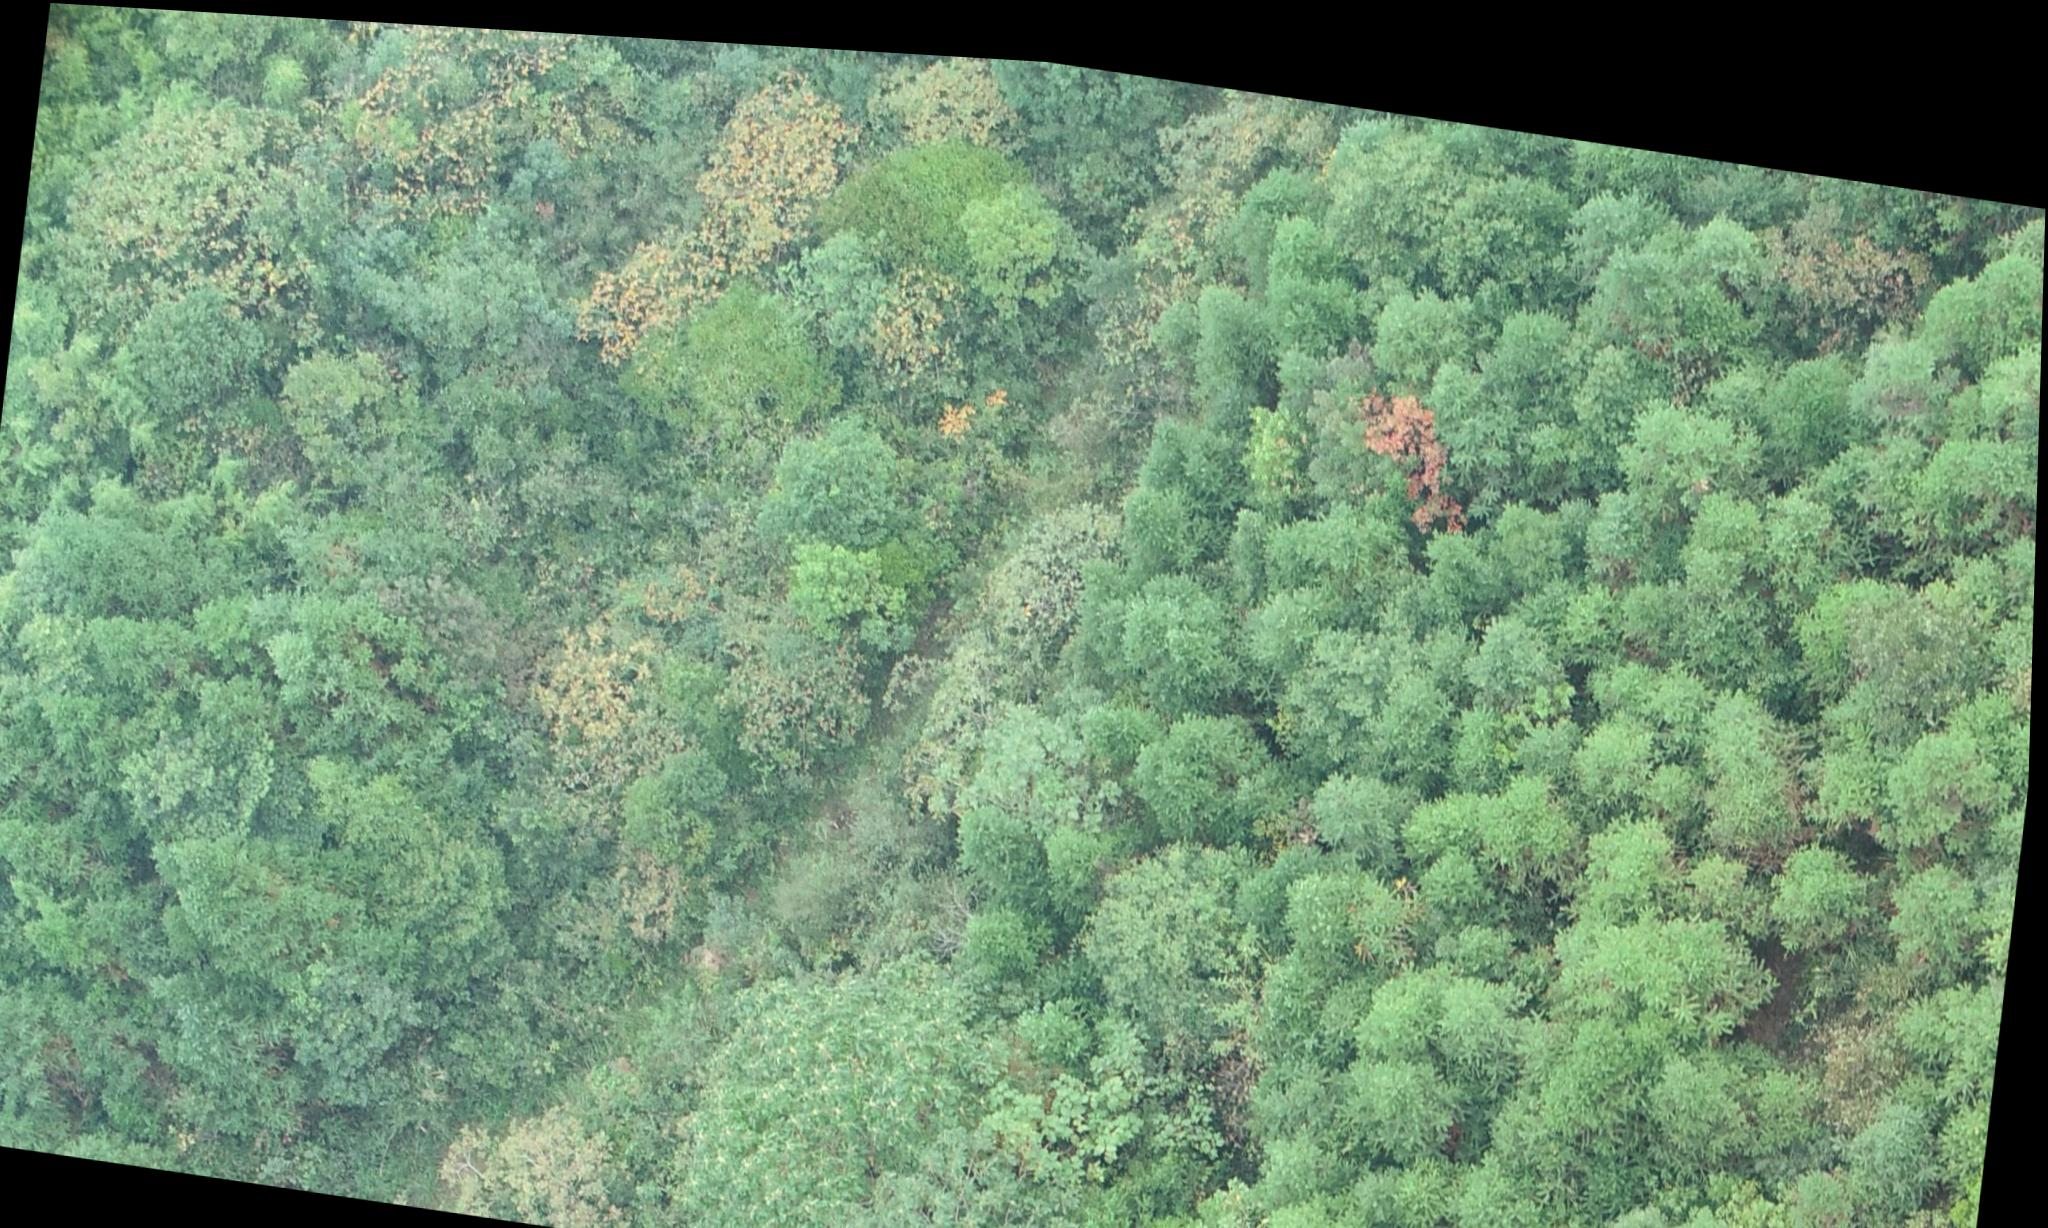heavy: (1348, 361, 1481, 525)
